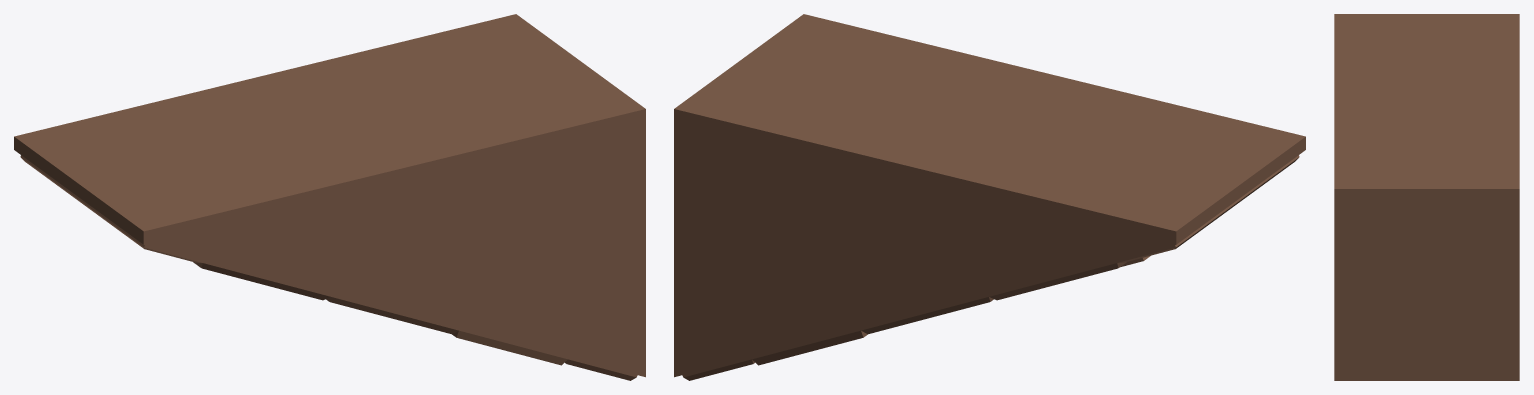
File: SM_roof_hinge.fbx
The picture shows the model from 3 angles, left to right: view 1: azimuth 30°, elevation 25°; view 2: azimuth 150°, elevation 25°; view 3: azimuth 270°, elevation 25°; orthographic projection. The views are drawn at different scales.
Parts seen in each view (by area): view 1: roof_hinge; view 2: roof_hinge; view 3: roof_hinge.
Part boxes in pixels (x1,y1,x2,y2): roof_hinge: [14, 14, 645, 380]; roof_hinge: [674, 14, 1305, 380]; roof_hinge: [1334, 14, 1519, 380].
Size of the model in its own units: 415 by 216 by 186.
